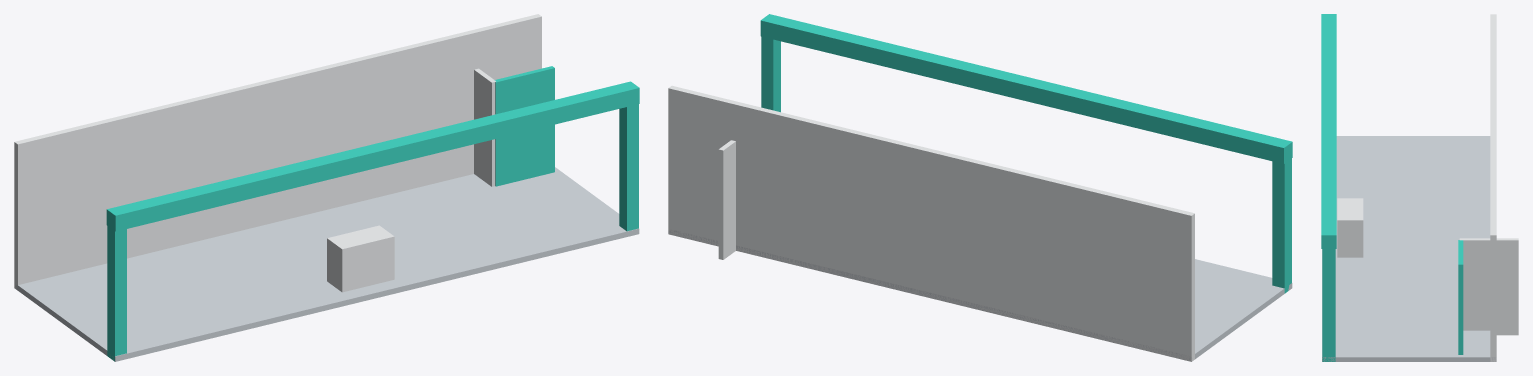
The picture shows the model from 3 angles, left to right: view 1: azimuth 30°, elevation 25°; view 2: azimuth 150°, elevation 25°; view 3: azimuth 270°, elevation 25°; orthographic projection. The views are drawn at different scales.
Visible parts, largest first — view 1: Exhibition Booth Concept; view 2: Exhibition Booth Concept; view 3: Exhibition Booth Concept.
Part boxes in pixels (<box>): Exhibition Booth Concept: <box>14,14,639,361</box>; Exhibition Booth Concept: <box>668,14,1292,361</box>; Exhibition Booth Concept: <box>1321,14,1518,361</box>.
Bounding box in the file's own units: 12 × 3.2 × 4.52.
